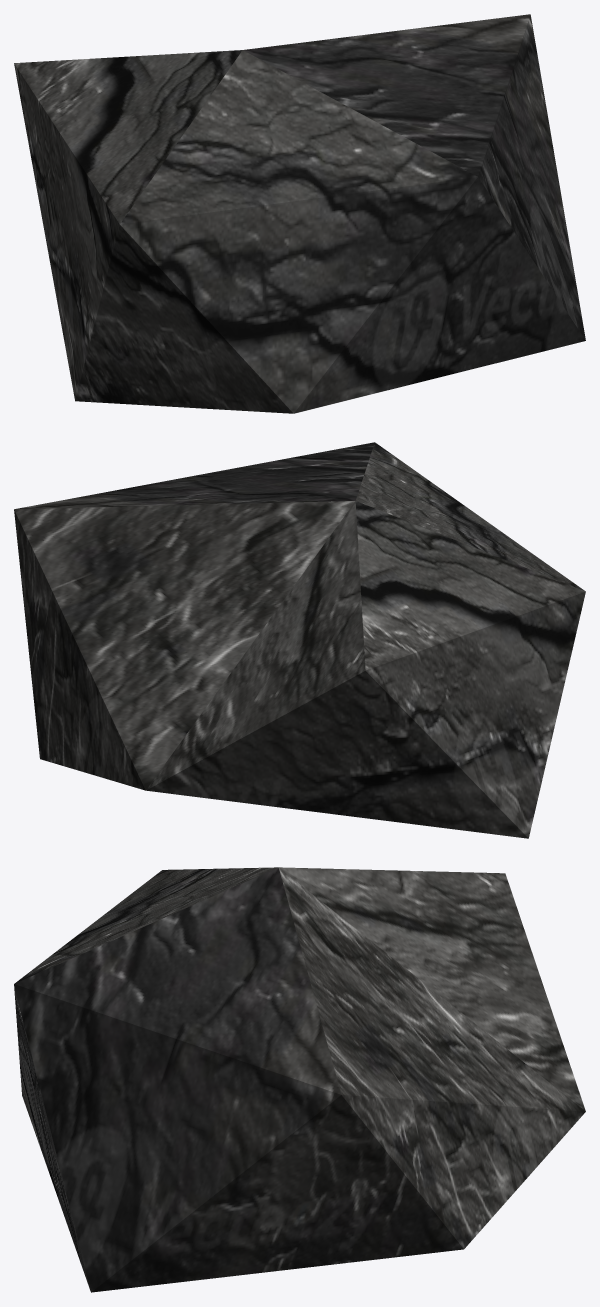
The model's file is smallrock.fbx.
3 views of the same model, one above another, from view 1: azimuth 30°, elevation 25°; view 2: azimuth 150°, elevation 25°; view 3: azimuth 270°, elevation 25° (orthographic). The views are drawn at different scales.
Visible parts, largest first — view 1: Icosphere.002; view 2: Icosphere.002; view 3: Icosphere.002.
Boxes of the visible parts, x1,y1,x2,y2 form: Icosphere.002: (14,14,585,413); Icosphere.002: (14,442,585,838); Icosphere.002: (14,867,585,1292).
Size of the model in its own units: 52.27 by 30.74 by 50.2.
1 material, 1 textured.
